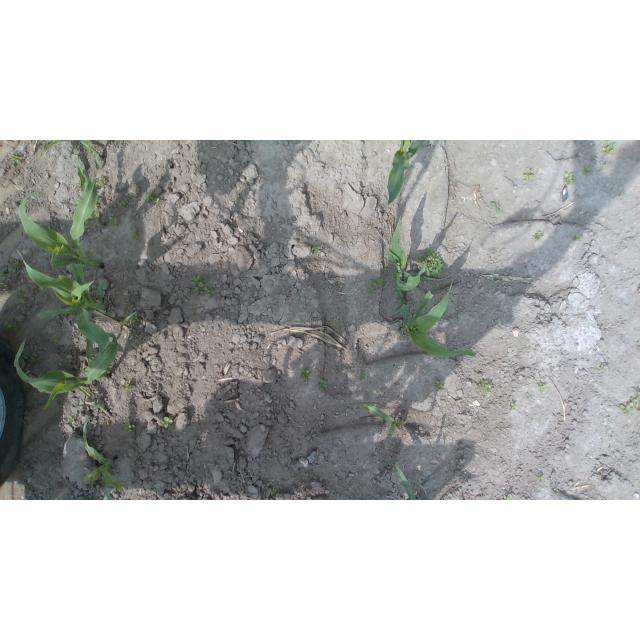Maize: (14, 310, 137, 410), (17, 154, 101, 298), (14, 248, 115, 354), (388, 215, 455, 314), (401, 278, 480, 358), (81, 420, 124, 500), (387, 141, 420, 206), (39, 140, 102, 169), (362, 402, 401, 434), (390, 464, 416, 501)
Weeds: (416, 247, 444, 277), (190, 274, 212, 298), (145, 189, 164, 204), (0, 316, 18, 331), (368, 278, 384, 294), (477, 381, 494, 395), (603, 141, 618, 156), (619, 403, 635, 417), (16, 287, 29, 303), (84, 213, 100, 226), (9, 151, 24, 164), (301, 367, 312, 384), (631, 390, 640, 410), (160, 416, 173, 428), (124, 421, 136, 434), (563, 173, 575, 186), (109, 216, 120, 230), (490, 200, 501, 214), (13, 260, 26, 271), (581, 165, 594, 176), (95, 177, 107, 188), (522, 170, 534, 181), (309, 246, 321, 257), (122, 380, 135, 390), (51, 332, 62, 343), (435, 381, 446, 392), (317, 376, 327, 388), (532, 230, 544, 240), (86, 249, 96, 259), (574, 232, 584, 242), (129, 313, 139, 323), (538, 383, 547, 393), (358, 371, 367, 381), (119, 201, 129, 209), (396, 420, 404, 428), (600, 164, 608, 172), (131, 230, 138, 239), (270, 487, 276, 496), (618, 191, 627, 197), (526, 393, 533, 400), (510, 403, 517, 410), (503, 494, 511, 500), (599, 365, 605, 372), (69, 416, 75, 423), (97, 197, 102, 203), (537, 477, 544, 481), (0, 269, 4, 276), (240, 199, 244, 203), (556, 490, 560, 493)
